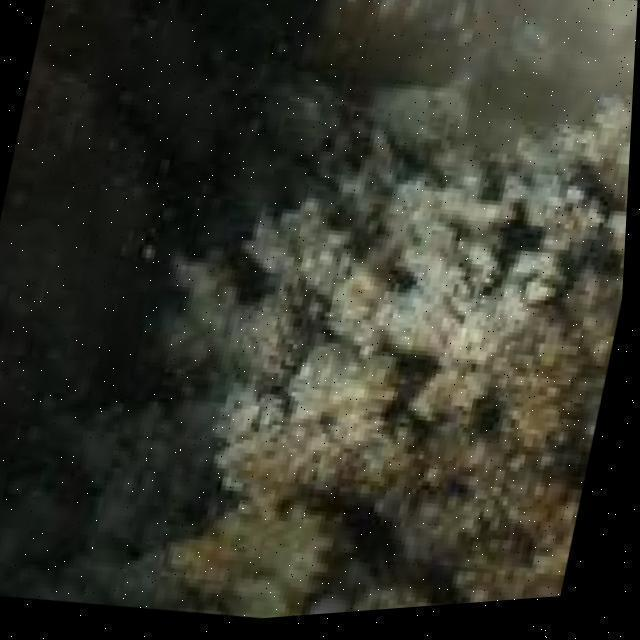Bleached Coral: (195, 97, 607, 429)
